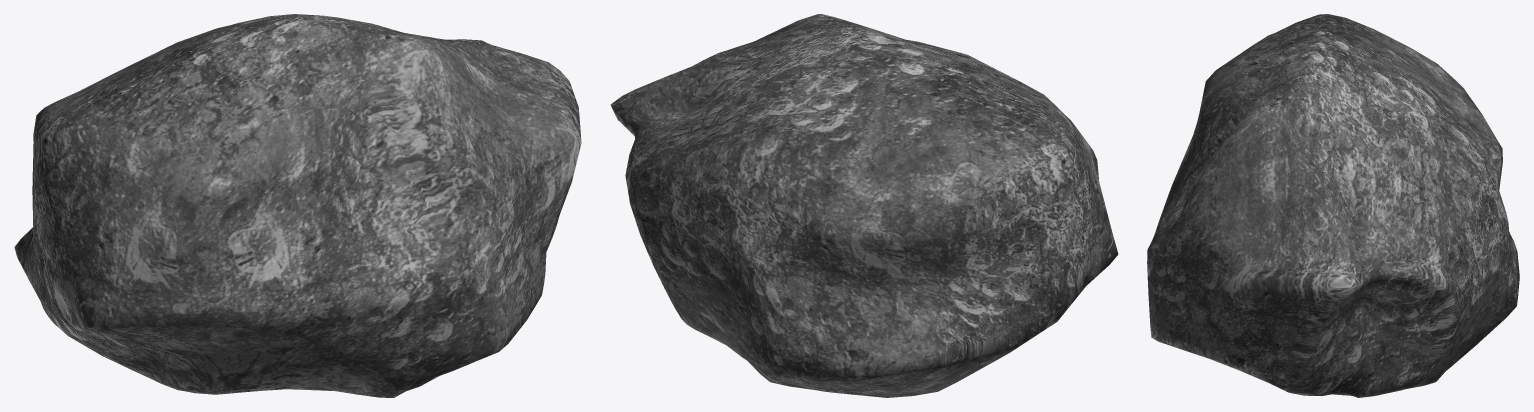
File: Asteroid_5.glb
The picture shows the model from 3 angles, left to right: view 1: azimuth 30°, elevation 25°; view 2: azimuth 150°, elevation 25°; view 3: azimuth 270°, elevation 25°; orthographic projection. The views are drawn at different scales.
Parts seen in each view (by area): view 1: Aster_Small_5_; view 2: Aster_Small_5_; view 3: Aster_Small_5_.
Part boxes in pixels (bbox=[...]): Aster_Small_5_: bbox=[14, 14, 581, 397]; Aster_Small_5_: bbox=[610, 14, 1118, 397]; Aster_Small_5_: bbox=[1147, 14, 1519, 397].
Bounding box in the file's own units: 3.52 × 2.46 × 2.58.
1 material, 1 textured.
